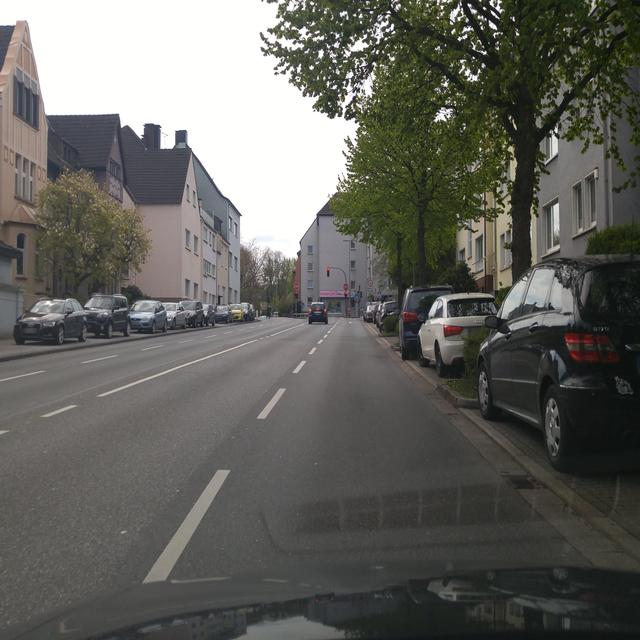Billboard: (319, 290, 344, 312)
Car: (398, 216, 639, 472), (14, 293, 243, 344), (308, 300, 397, 327)
Motorcycle: (381, 309, 398, 319)
Vegetation: (381, 315, 490, 398), (240, 236, 297, 316)
